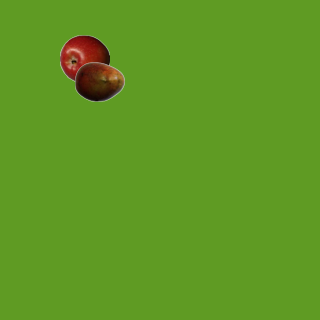Apple Braeburn: (59, 34, 109, 84)
Mango Red: (74, 56, 124, 106)
